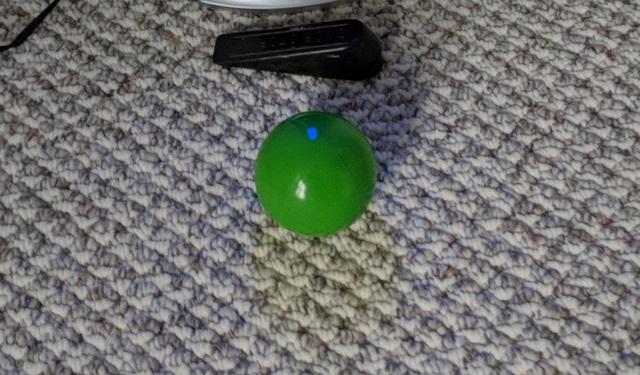ball: (251, 112, 382, 237)
